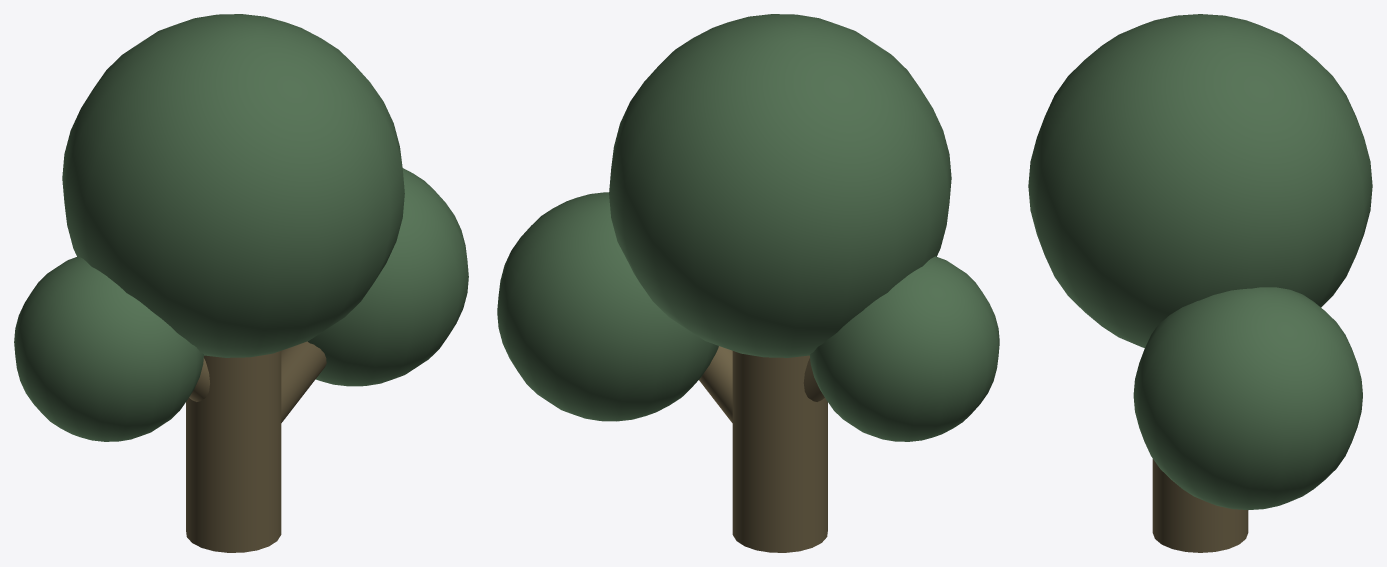
The model's file is Tree 2.fbx.
3 renders of one model, left to right at view 1: azimuth 30°, elevation 25°; view 2: azimuth 150°, elevation 25°; view 3: azimuth 270°, elevation 25°, orthographic.
Visible parts, largest first — view 1: midleaf, leftleaf, trunk, rightleaf, rightbranch; view 2: midleaf, rightleaf, leftleaf, trunk, rightbranch; view 3: midleaf, rightleaf, trunk.
Part boxes in pixels (x1,y1,x2,y2): midleaf: (62,14,404,357); leftleaf: (14,256,203,441); trunk: (186,351,281,552); rightleaf: (308,168,468,386); rightbranch: (281,341,326,422); midleaf: (609,14,951,357); rightleaf: (497,192,718,421); leftleaf: (810,256,999,441); trunk: (732,351,827,552); rightbranch: (699,346,732,422); midleaf: (1028,14,1372,347); rightleaf: (1133,287,1362,510); trunk: (1152,459,1248,552).
Size of the model in its own units: 27.25 by 29 by 18.
